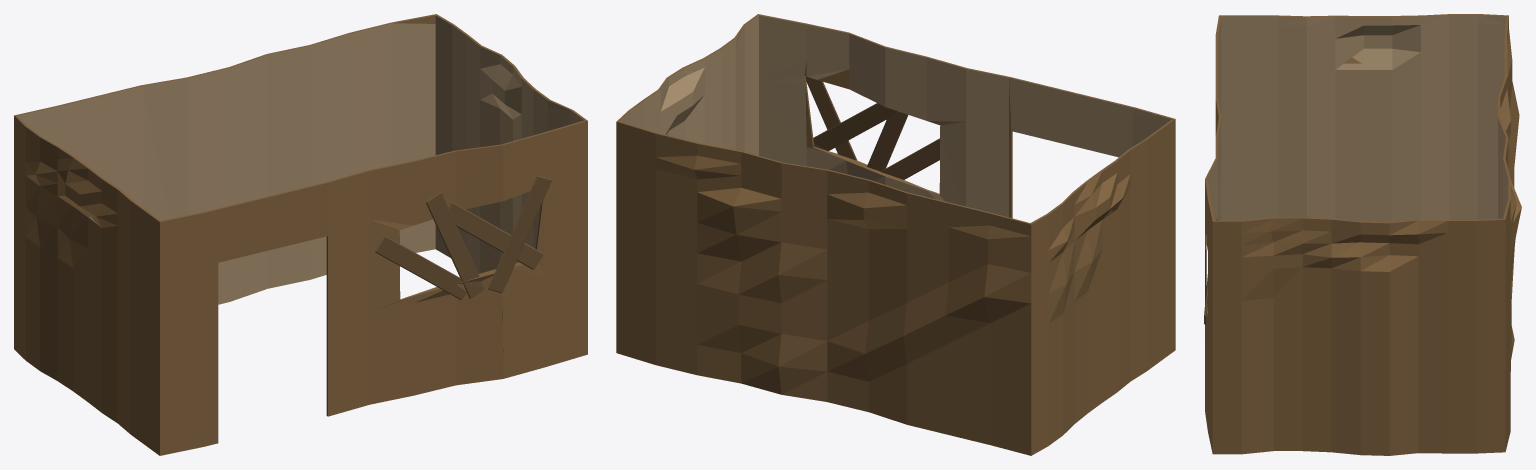
Rendered from Shelter.fbx.
3 renders of one model, left to right at view 1: azimuth 30°, elevation 25°; view 2: azimuth 150°, elevation 25°; view 3: azimuth 270°, elevation 25°, orthographic.
Visible parts, largest first — view 1: Shelter; view 2: Shelter; view 3: Shelter.
Boxes of the visible parts, bbox=[...] form: Shelter: bbox=[14, 14, 587, 455]; Shelter: bbox=[616, 14, 1175, 455]; Shelter: bbox=[1204, 14, 1521, 455].
Bounding box in the file's own units: 518 × 266 × 329.
